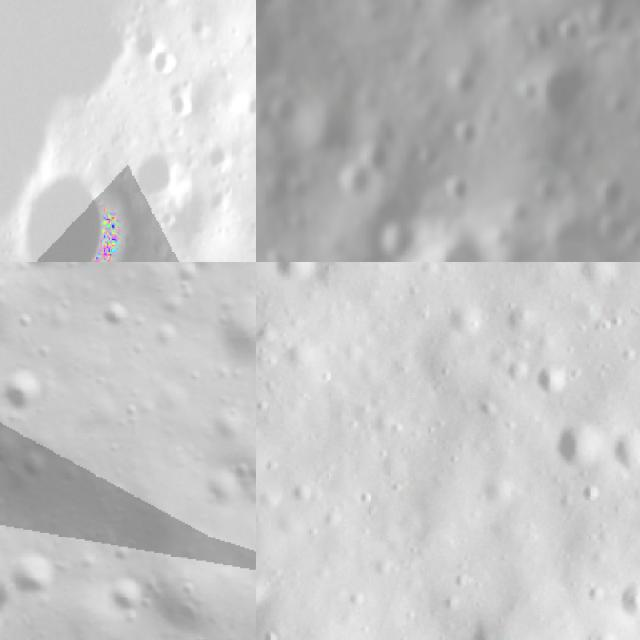crater: (0, 0, 151, 238), (1, 149, 135, 262), (535, 404, 620, 486), (531, 56, 599, 122), (132, 133, 194, 204), (260, 262, 338, 305), (527, 354, 582, 414), (596, 412, 640, 487), (86, 284, 142, 342), (0, 360, 51, 423), (563, 262, 632, 308), (365, 216, 424, 262), (406, 235, 501, 262), (606, 567, 640, 640), (0, 262, 76, 292), (334, 164, 376, 207), (520, 17, 556, 65), (589, 213, 630, 255), (162, 70, 198, 117), (256, 572, 282, 631), (552, 14, 596, 48), (415, 135, 452, 175), (271, 96, 307, 136), (453, 615, 508, 640), (149, 39, 182, 80), (453, 116, 482, 154), (442, 172, 474, 206), (601, 175, 629, 212)
